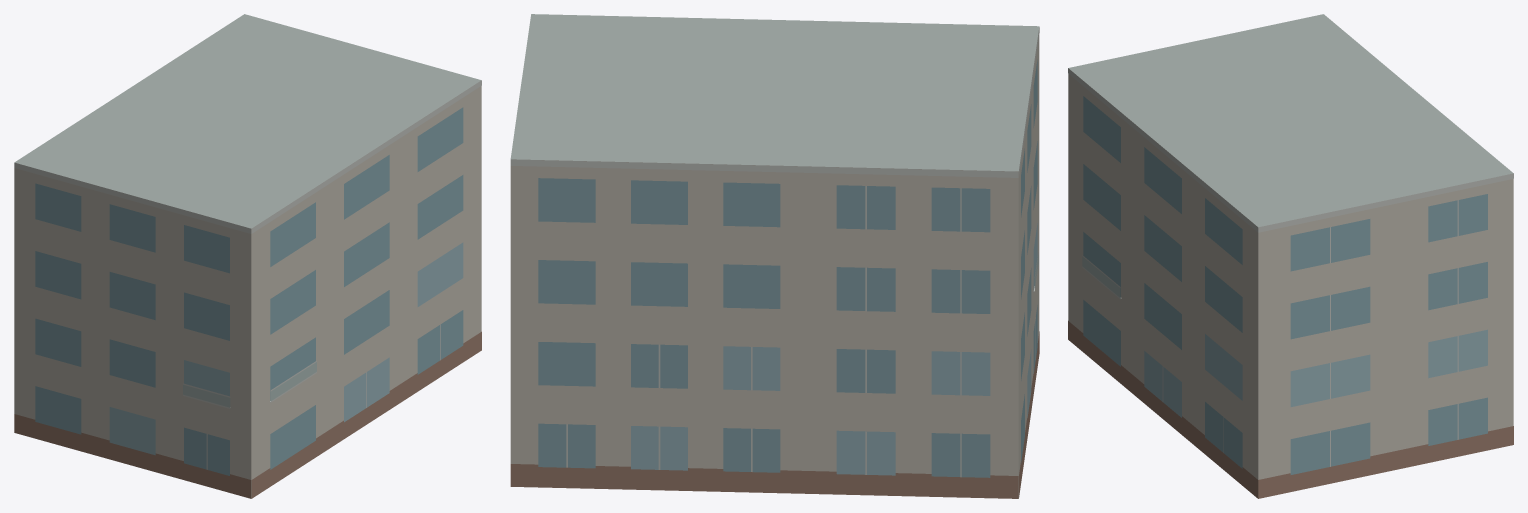
Rendered from survey-upis-32706707.glb.
3 views of the same model, side by side, from view 1: azimuth 30°, elevation 25°; view 2: azimuth 150°, elevation 25°; view 3: azimuth 270°, elevation 25° (orthographic). The views are drawn at different scales.
Visible parts, largest first — view 1: survey-upis-32706707.tmp; view 2: survey-upis-32706707.tmp; view 3: survey-upis-32706707.tmp.
Part boxes in pixels (left/top/right/bottom): survey-upis-32706707.tmp: left=14, top=14, right=481, bottom=498; survey-upis-32706707.tmp: left=510, top=14, right=1039, bottom=498; survey-upis-32706707.tmp: left=1068, top=14, right=1513, bottom=498.
Size of the model in its own units: 20.56 by 12.2 by 18.15.
